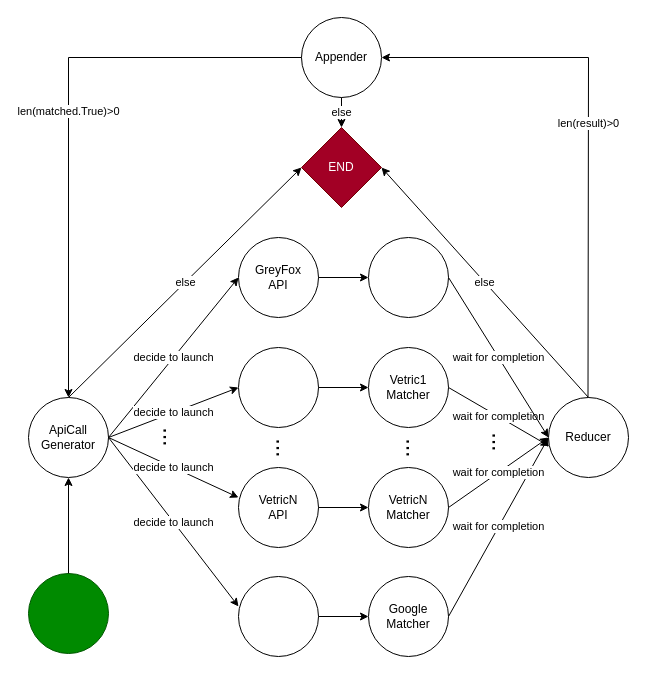
The diagram is 646 pixels wide and 674 high, and some of its shapes have lost their labels. The centre of each missing label's shape, as x and y in pixels:
"Google API" belongs at (278,616).
"GreyFox Matcher" belongs at (408,277).
"start" belongs at (68,613).
"Vetric1 API" belongs at (278,387).
